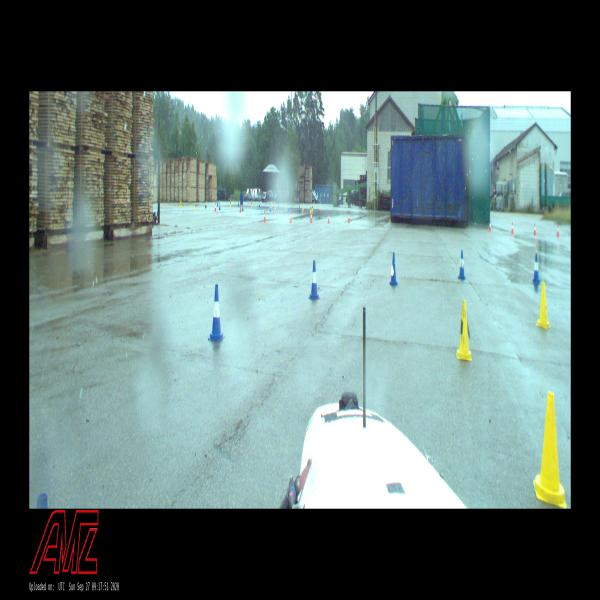blue_cone: (208, 285, 225, 341), (309, 261, 320, 299), (390, 252, 397, 285), (532, 254, 540, 282), (458, 250, 465, 279), (219, 202, 221, 210), (298, 206, 300, 214), (288, 204, 290, 212), (242, 203, 244, 210), (270, 204, 272, 211), (290, 203, 292, 210), (205, 202, 207, 208), (278, 202, 280, 208), (217, 200, 218, 207), (238, 200, 239, 207), (259, 202, 260, 208)
orange_cone: (263, 210, 266, 222), (557, 225, 560, 237), (511, 223, 514, 234), (310, 212, 313, 223), (327, 213, 330, 223), (534, 223, 536, 235), (489, 221, 491, 232), (290, 212, 292, 222), (348, 214, 350, 222), (215, 203, 216, 211), (240, 204, 241, 212), (275, 205, 276, 213)
yellow_cone: (533, 392, 567, 508), (456, 300, 472, 360), (536, 282, 550, 329), (195, 202, 197, 210), (206, 200, 208, 208), (310, 205, 312, 212), (180, 201, 182, 207), (189, 200, 191, 206), (302, 203, 304, 209), (312, 205, 313, 211), (230, 200, 231, 206), (251, 200, 252, 206), (286, 202, 286, 210), (272, 201, 272, 207)
